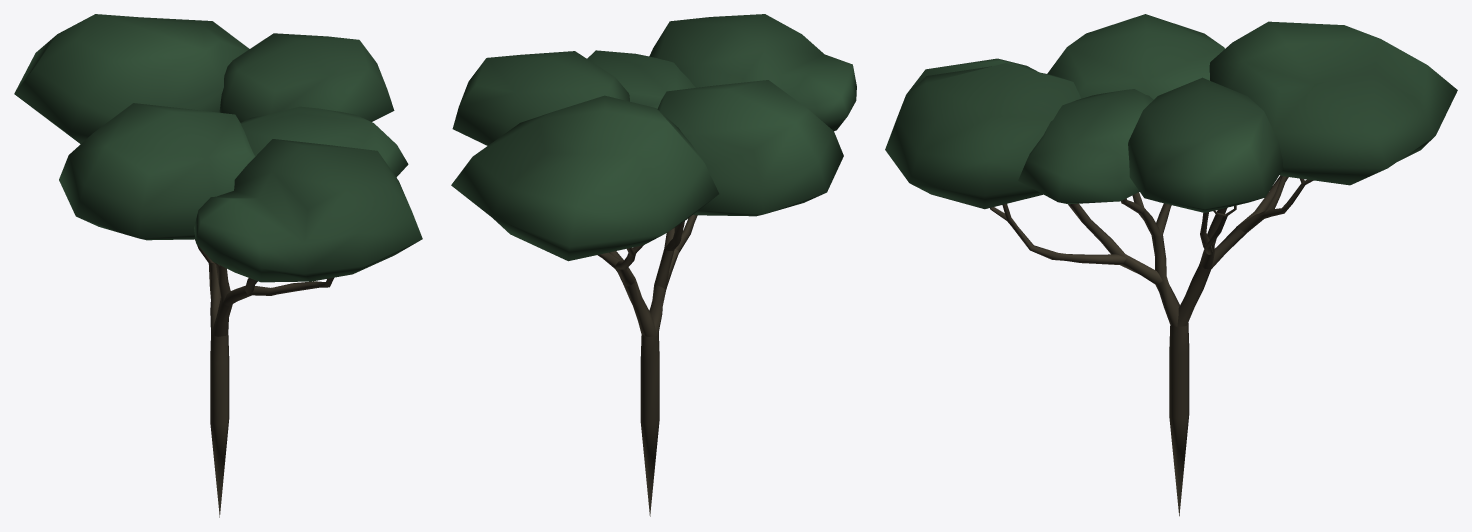
Rendered from trees-broadleaf-trees-acacia-tree_v1.fbx.
3 views of the same model, side by side, from view 1: azimuth 30°, elevation 25°; view 2: azimuth 150°, elevation 25°; view 3: azimuth 270°, elevation 25° (orthographic). The views are drawn at different scales.
Parts seen in each view (by area): view 1: Acacia Tree_v1; view 2: Acacia Tree_v1; view 3: Acacia Tree_v1.
Boxes of the visible parts, left/top/right/bottom form: Acacia Tree_v1: left=14, top=14, right=422, bottom=517; Acacia Tree_v1: left=451, top=14, right=856, bottom=516; Acacia Tree_v1: left=885, top=14, right=1457, bottom=516.
Bounding box in the file's own units: 7.15 × 9.06 × 10.
